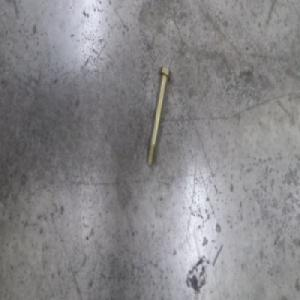Bolt: (144, 64, 171, 167)
